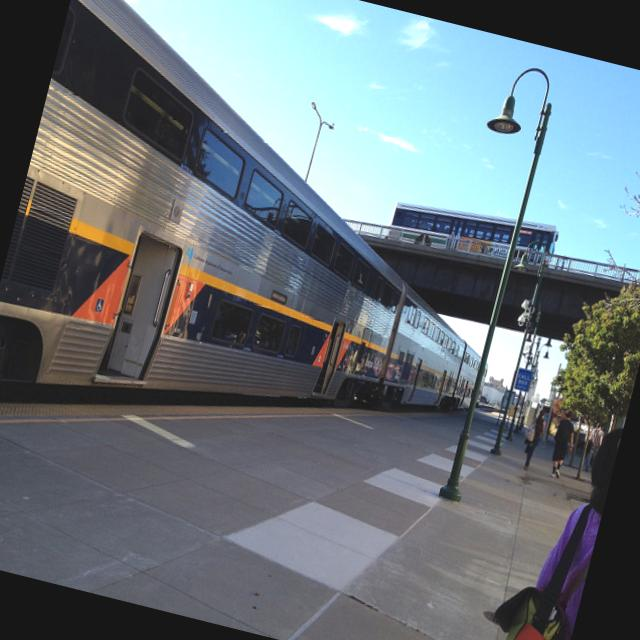Vehicle: (386, 185, 561, 278)
